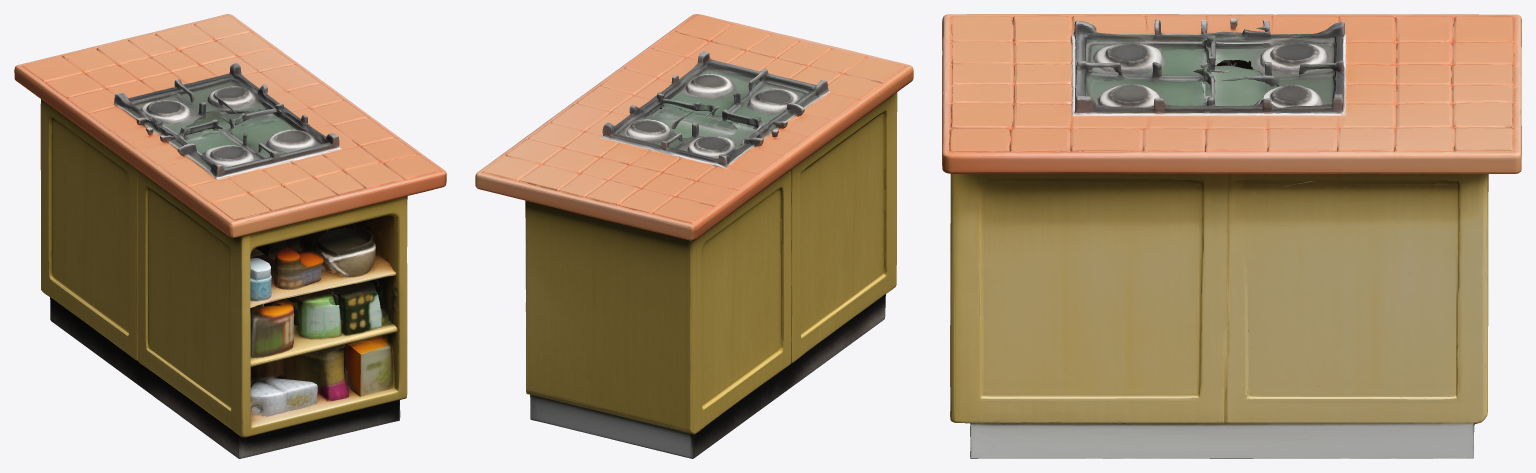
The model's file is kitchen_island.glb.
3 views of the same model, side by side, from view 1: azimuth 30°, elevation 25°; view 2: azimuth 150°, elevation 25°; view 3: azimuth 270°, elevation 25° (orthographic). The views are drawn at different scales.
Parts seen in each view (by area): view 1: geometry_0; view 2: geometry_0; view 3: geometry_0.
Part boxes in pixels (x1,y1,x2,y2): geometry_0: [14, 14, 446, 458]; geometry_0: [475, 14, 913, 458]; geometry_0: [942, 14, 1521, 458].
Size of the model in its own units: 0.579 by 0.6619 by 1.
Materials: 1 (1 with a texture image).
